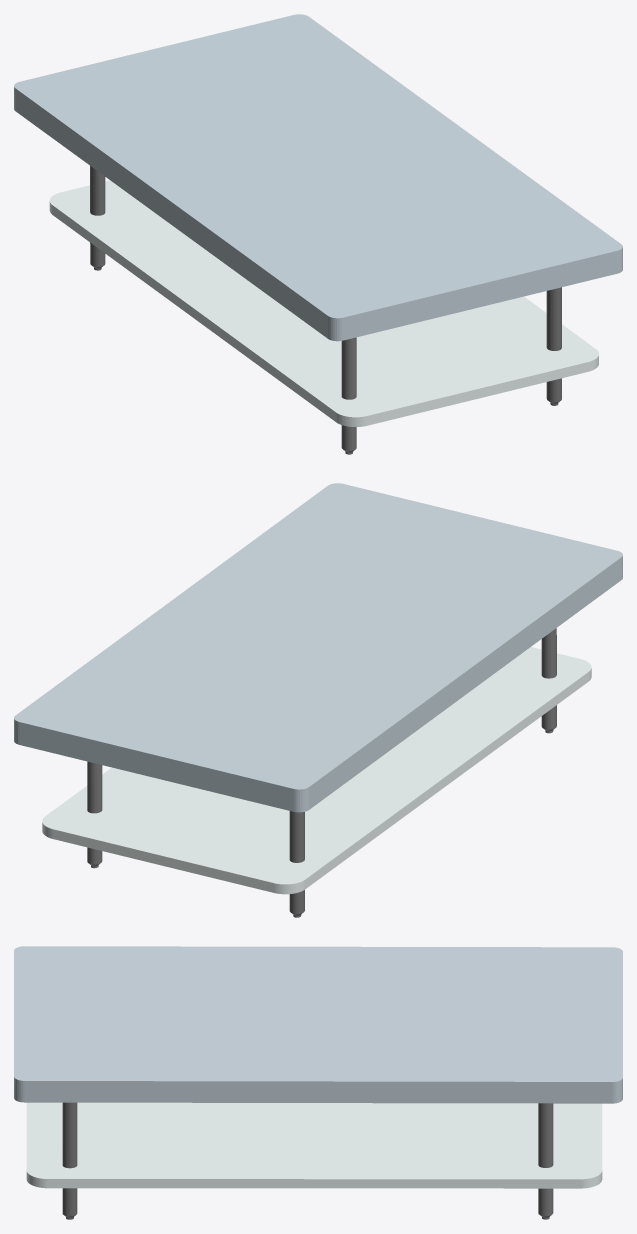
File: tablePlancia.dae
3 views of the same model, one above another, from view 1: azimuth 30°, elevation 25°; view 2: azimuth 150°, elevation 25°; view 3: azimuth 270°, elevation 25° (orthographic). The views are drawn at different scales.
Visible parts, largest first — view 1: Cube, Cube.001, Cylinder.003, Cylinder, Cylinder.002; view 2: Cube, Cube.001, Cylinder.002, Cylinder.001, Cylinder.003; view 3: Cube, Cube.001, Cylinder, Cylinder.001.
Part boxes in pixels (x1,y1,x2,y2): Cube: (14,14,622,341); Cube.001: (49,180,598,426); Cylinder.003: (341,337,356,454); Cylinder: (546,287,561,405); Cylinder.002: (90,166,105,270); Cube: (14,483,622,812); Cube.001: (42,647,591,894); Cylinder.002: (289,811,304,917); Cylinder.001: (87,761,102,868); Cylinder.003: (541,628,556,733); Cube: (14,946,622,1103); Cube.001: (26,1102,602,1188); Cylinder: (62,1102,77,1219); Cylinder.001: (538,1103,553,1219).
Bounding box in the file's own units: 2.99 × 5.72 × 1.63.
